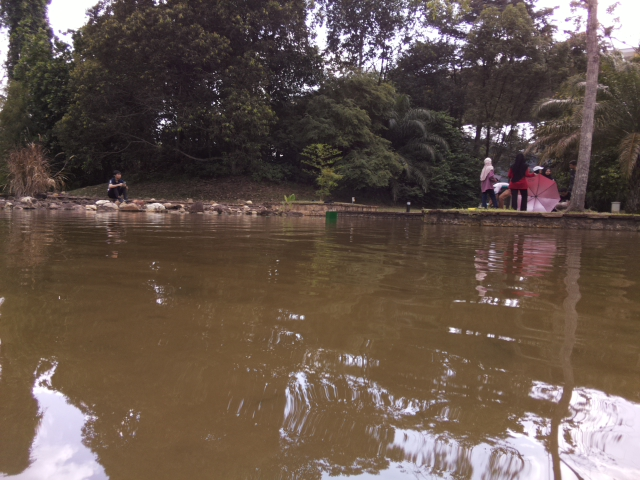obstacle: (325, 210, 337, 220)
